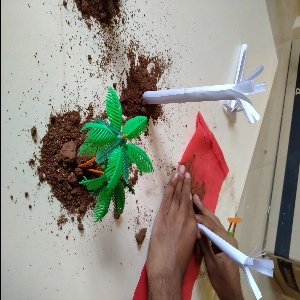plant: (75, 82, 150, 214)
weed: (134, 42, 281, 130), (181, 204, 278, 289)
